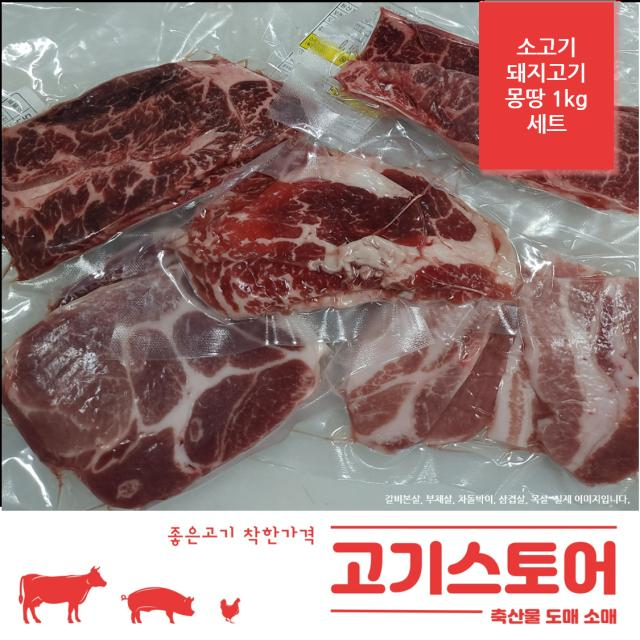beef: (83, 308, 282, 448), (385, 316, 608, 428), (237, 181, 460, 287)
